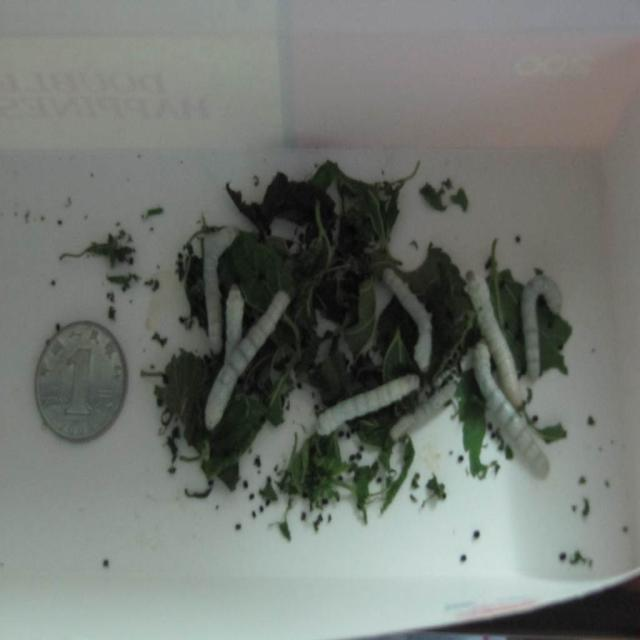Coin: (34, 319, 130, 443)
